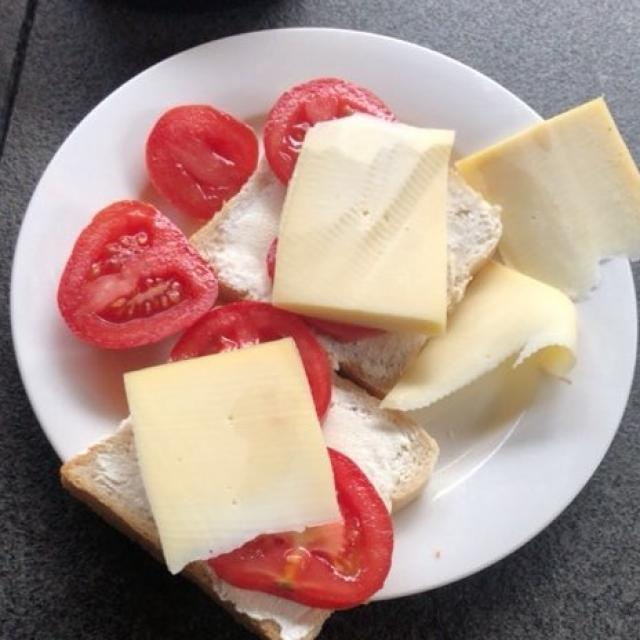cheese: (121, 96, 639, 579)
tomato: (55, 75, 404, 600)
